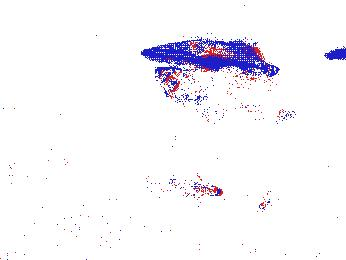X-ray fish: (152, 66, 209, 109)
red belly glassfish: (161, 173, 224, 202), (257, 186, 276, 215)
redtail glassfish: (201, 100, 297, 133), (203, 53, 282, 81)
